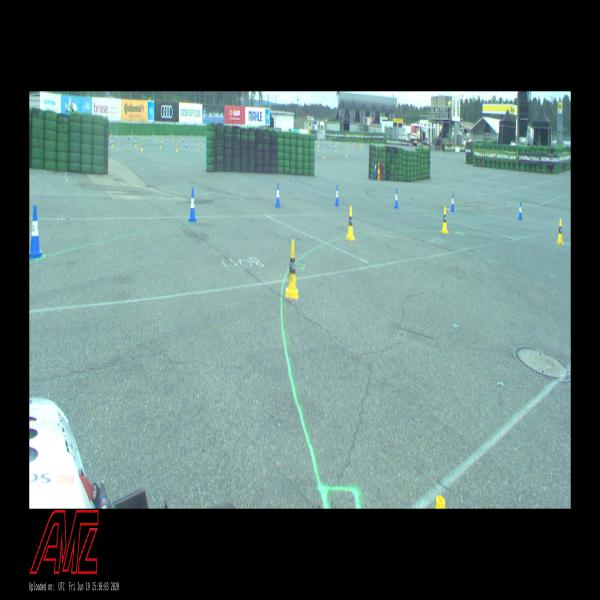blue_cone: (29, 206, 42, 258), (189, 189, 196, 221), (334, 185, 340, 206), (276, 183, 280, 207), (450, 193, 455, 211), (518, 202, 522, 221), (394, 189, 398, 208), (110, 138, 112, 146), (148, 136, 150, 142), (375, 162, 376, 173), (334, 144, 336, 149), (128, 134, 130, 139), (332, 145, 334, 149), (186, 142, 187, 148), (135, 138, 136, 144), (113, 134, 114, 139), (166, 138, 167, 142), (195, 138, 196, 142), (183, 138, 184, 142), (204, 138, 205, 142), (317, 146, 318, 150), (365, 144, 366, 148), (176, 137, 176, 143), (329, 145, 329, 148), (320, 144, 320, 148)
orange_cone: (177, 139, 179, 145), (354, 142, 355, 147)
yellow_cone: (286, 240, 298, 296), (347, 206, 354, 239), (442, 207, 448, 233), (557, 219, 563, 243), (378, 163, 380, 173), (141, 142, 143, 150), (135, 140, 137, 148), (440, 151, 442, 156), (110, 131, 112, 136), (338, 140, 340, 144), (160, 141, 161, 148), (198, 144, 199, 151), (177, 144, 178, 151), (112, 140, 113, 147), (323, 152, 324, 158), (116, 132, 117, 137), (181, 135, 182, 140), (318, 146, 319, 151), (346, 152, 347, 156), (155, 136, 156, 140), (162, 136, 163, 140), (173, 136, 174, 140), (198, 136, 199, 140), (336, 143, 337, 147), (153, 132, 154, 136), (318, 142, 319, 146), (336, 147, 337, 151), (348, 141, 349, 145), (353, 144, 354, 148), (144, 134, 144, 140), (132, 134, 132, 138), (346, 144, 346, 148), (172, 132, 172, 136), (192, 132, 192, 136), (350, 146, 350, 150), (360, 143, 360, 146), (361, 146, 361, 150), (362, 143, 362, 147)
